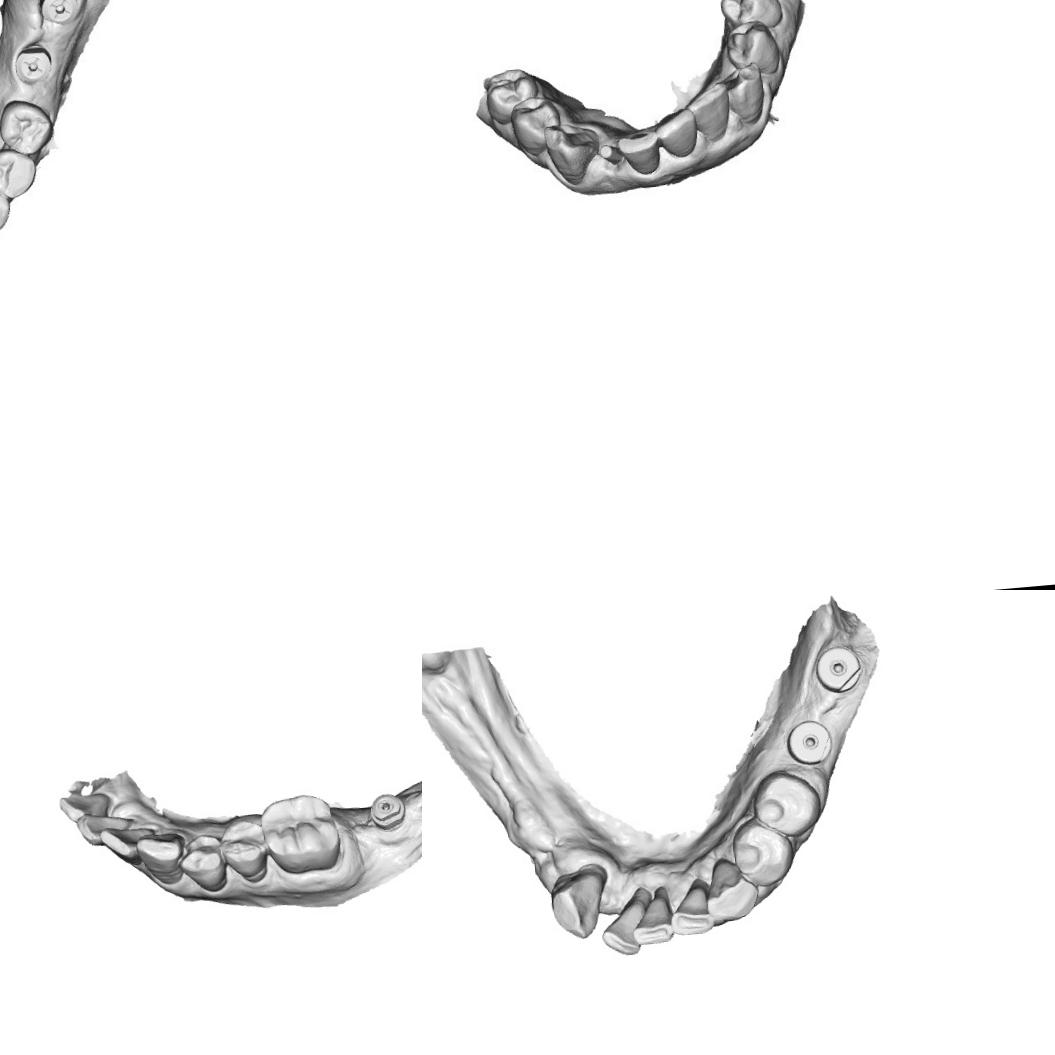abutment: (592, 138, 625, 178)
canine: (546, 864, 610, 943), (700, 852, 760, 925), (544, 126, 600, 185), (720, 61, 770, 124), (134, 829, 188, 887), (0, 175, 12, 240)
implant: (783, 716, 836, 766), (813, 644, 863, 694)
implant_minus: (367, 790, 408, 833)
implant_plus: (6, 36, 58, 95), (32, 0, 82, 34)
incisor: (626, 889, 676, 947), (598, 903, 647, 960), (98, 822, 158, 868), (668, 880, 716, 937), (75, 808, 132, 848), (56, 788, 117, 824), (617, 124, 659, 174), (658, 107, 700, 157), (694, 87, 733, 139)
molar: (257, 790, 343, 876)
premolar: (750, 766, 824, 842), (725, 816, 796, 890), (216, 816, 270, 886), (0, 95, 56, 158), (176, 831, 229, 895), (726, 18, 784, 76), (511, 95, 561, 153), (0, 141, 39, 202), (484, 74, 536, 114), (719, 0, 781, 28)
